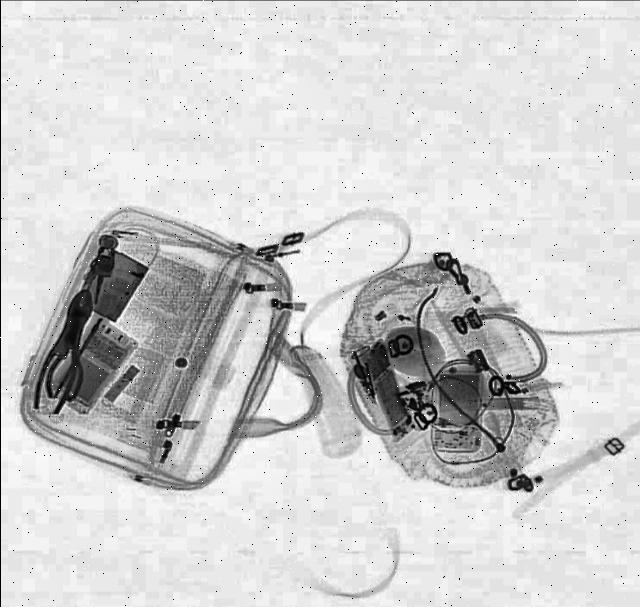Pliers: (27, 284, 105, 414), (39, 317, 105, 401)
